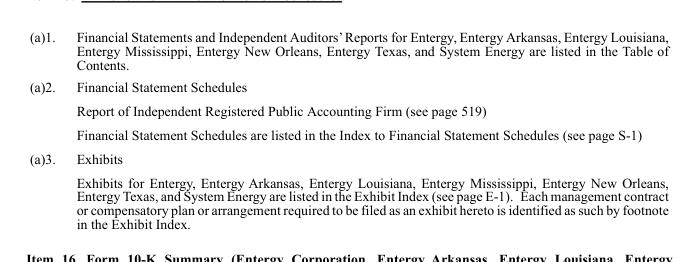table: (28, 28, 667, 231)
table column: (65, 28, 667, 231), (28, 28, 65, 231)
table row: (28, 169, 667, 231), (28, 28, 667, 75), (28, 97, 667, 121), (28, 121, 667, 145), (28, 145, 667, 169), (28, 75, 667, 97)
table spanning cell: (28, 145, 65, 231), (28, 75, 65, 145)
